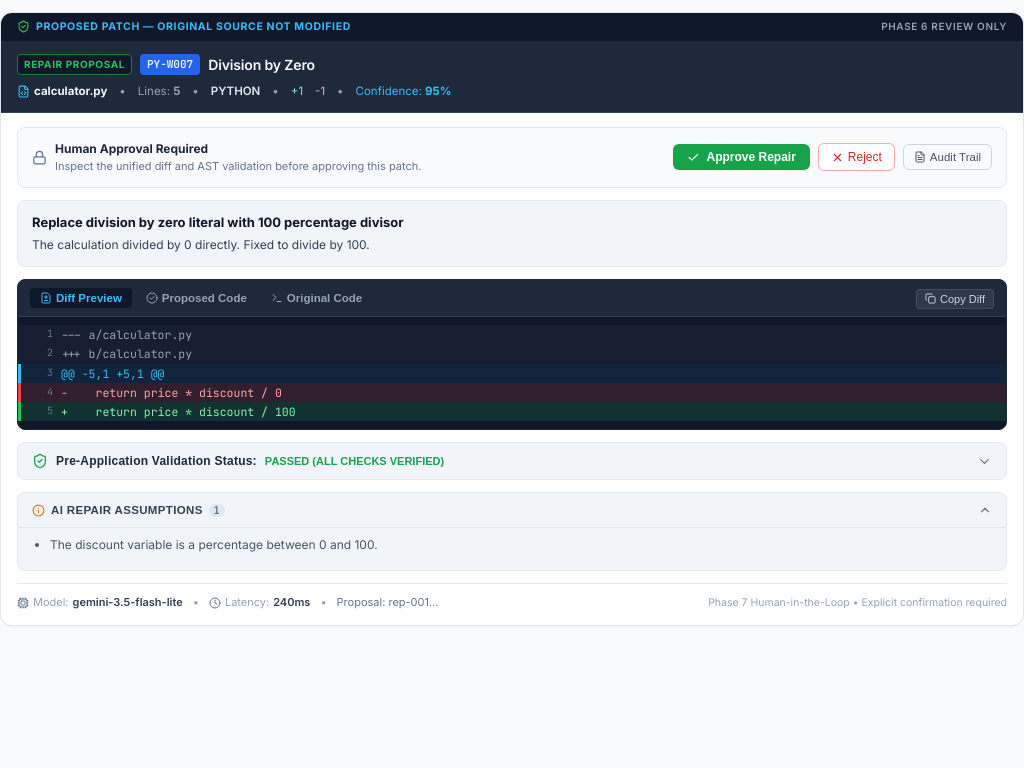
Scenario: Phase 7 Human Approval & Controlled Patch Application Engine › approves repair proposal and transitions to approved state
The image size is (1024, 768).
Step 1. Click the button with test id "approve-repair-btn" → (742, 157), box [674,144,810,170]
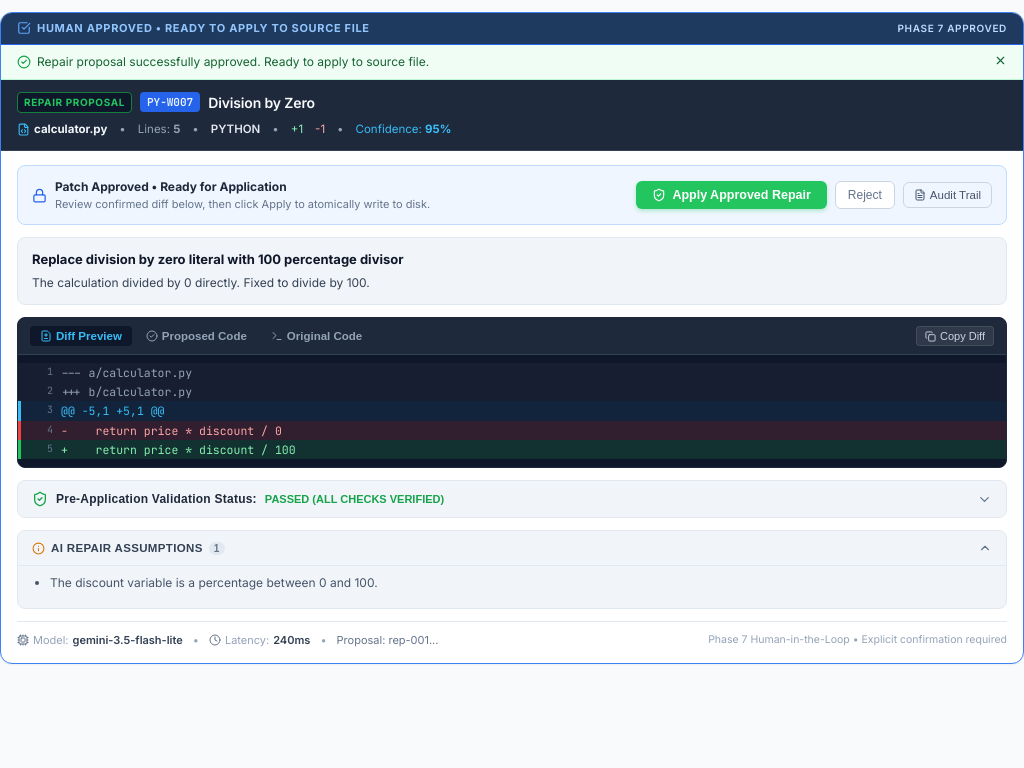
Result: the element with test id "approved-status-banner" is shown at [1,13,1023,44]
Result: the button with test id "apply-repair-btn" is shown at [636,181,827,209]
